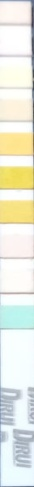color 1: (1, 6, 30, 22)
color 10: (1, 307, 32, 326)
color 2: (1, 39, 29, 53)
color 3: (1, 68, 31, 86)
color 4: (1, 101, 31, 119)
color 5: (1, 134, 31, 154)
color 6: (1, 168, 31, 188)
color 7: (1, 202, 32, 221)
color 8: (1, 236, 32, 255)
color 9: (1, 271, 32, 291)
